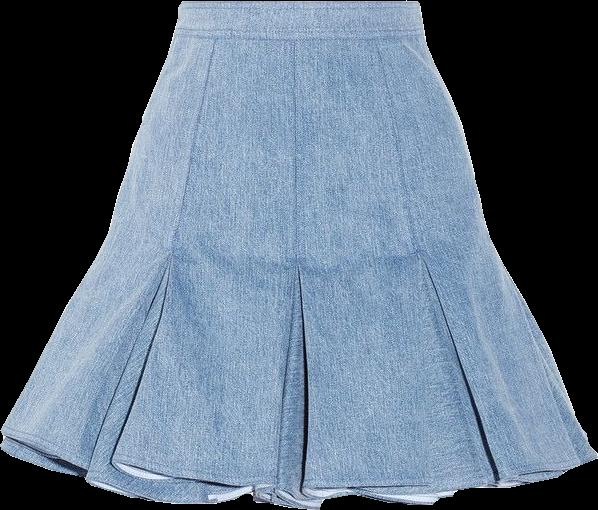Hemline: (0, 431, 597, 509)
Waistline: (177, 0, 420, 8)
